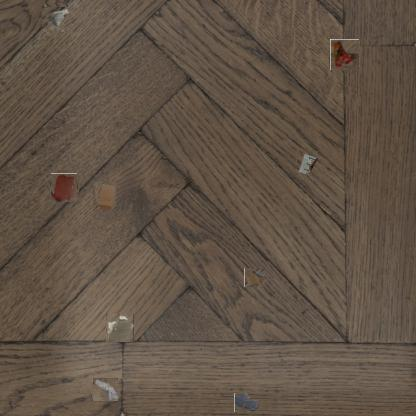dirty: (330, 40, 360, 69), (106, 314, 134, 342), (92, 180, 116, 212), (43, 6, 69, 32), (92, 377, 118, 401), (296, 152, 318, 176), (244, 267, 265, 288)
liquid: (51, 174, 78, 202), (234, 392, 259, 412)
